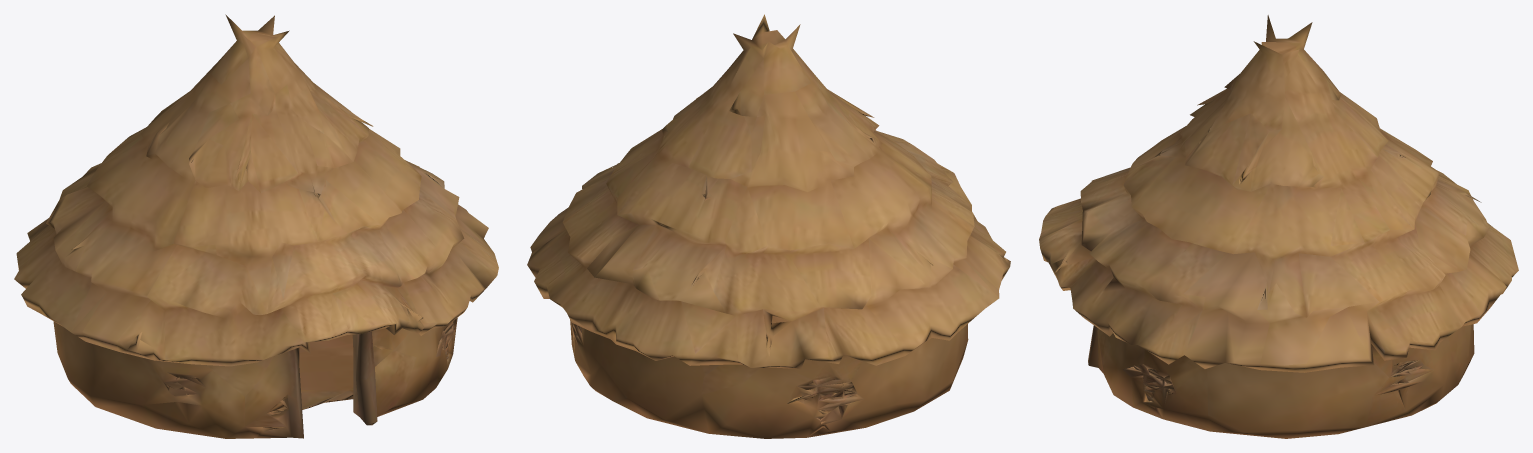
File: roundhouse.glb
The picture shows the model from 3 angles, left to right: view 1: azimuth 30°, elevation 25°; view 2: azimuth 150°, elevation 25°; view 3: azimuth 270°, elevation 25°; orthographic projection. The views are drawn at different scales.
Parts seen in each view (by area): view 1: tripo_node_243a4d73-7673-42c7-960c-78caab93f561; view 2: tripo_node_243a4d73-7673-42c7-960c-78caab93f561; view 3: tripo_node_243a4d73-7673-42c7-960c-78caab93f561.
Part boxes in pixels (bbox=[...]): tripo_node_243a4d73-7673-42c7-960c-78caab93f561: bbox=[14, 14, 498, 438]; tripo_node_243a4d73-7673-42c7-960c-78caab93f561: bbox=[527, 14, 1010, 438]; tripo_node_243a4d73-7673-42c7-960c-78caab93f561: bbox=[1039, 15, 1518, 438].
Bounding box in the file's own units: 0.9749 × 0.7517 × 0.981.
Materials: 1 (1 with a texture image).
